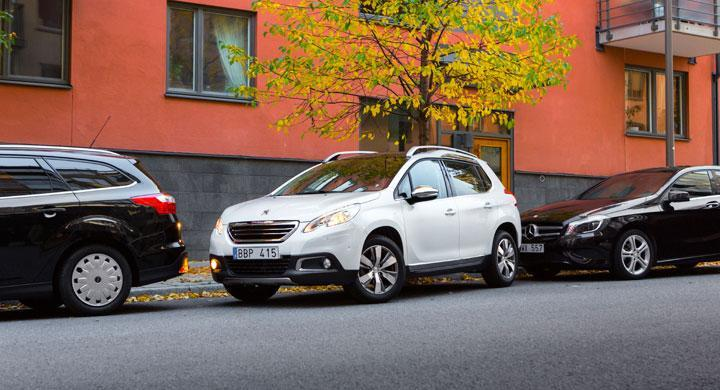license-plates: (234, 247, 280, 260)
